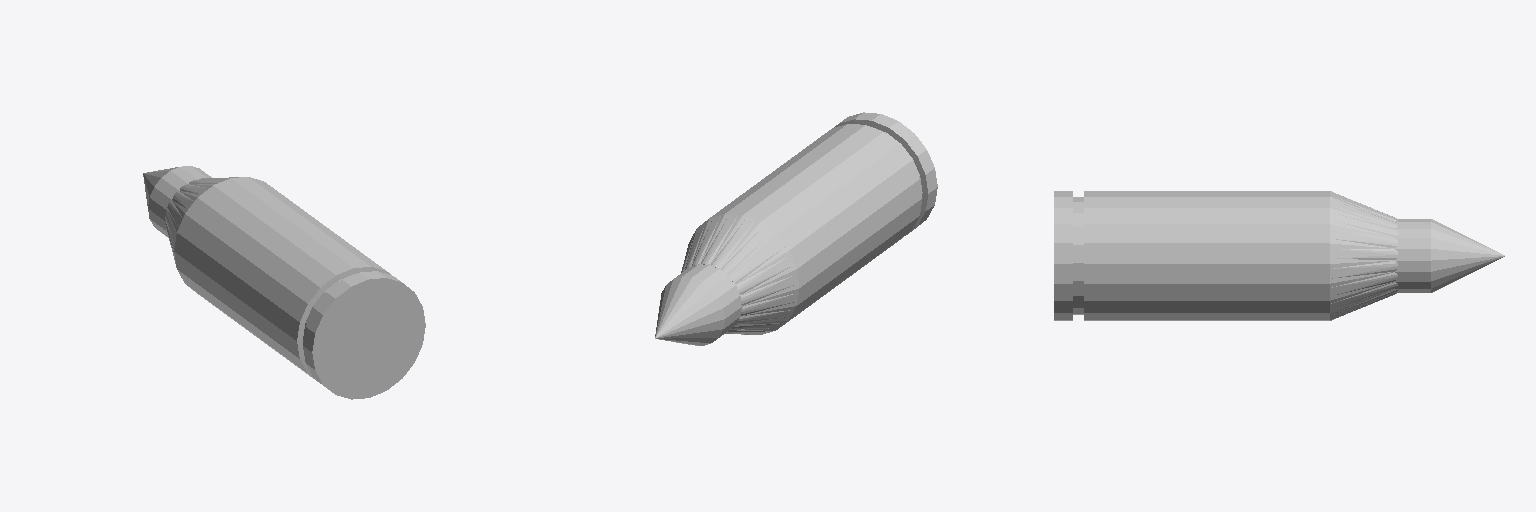
File: bullet2.obj
The picture shows the model from 3 angles: view 1: azimuth 30°, elevation 25°; view 2: azimuth 150°, elevation 25°; view 3: azimuth 270°, elevation 25°; orthographic projection.
Parts seen in each view (by area): view 1: pCylinder1, pCone1; view 2: pCylinder1, pCone1; view 3: pCylinder1, pCone1.
Part boxes in pixels (bbox=[...]): pCylinder1: bbox=[165, 177, 425, 399]; pCone1: bbox=[143, 166, 211, 236]; pCylinder1: bbox=[681, 112, 937, 334]; pCone1: bbox=[655, 263, 742, 345]; pCylinder1: bbox=[1054, 191, 1397, 320]; pCone1: bbox=[1395, 219, 1504, 292].
Bounding box in the file's own units: 2 × 2 × 6.9.